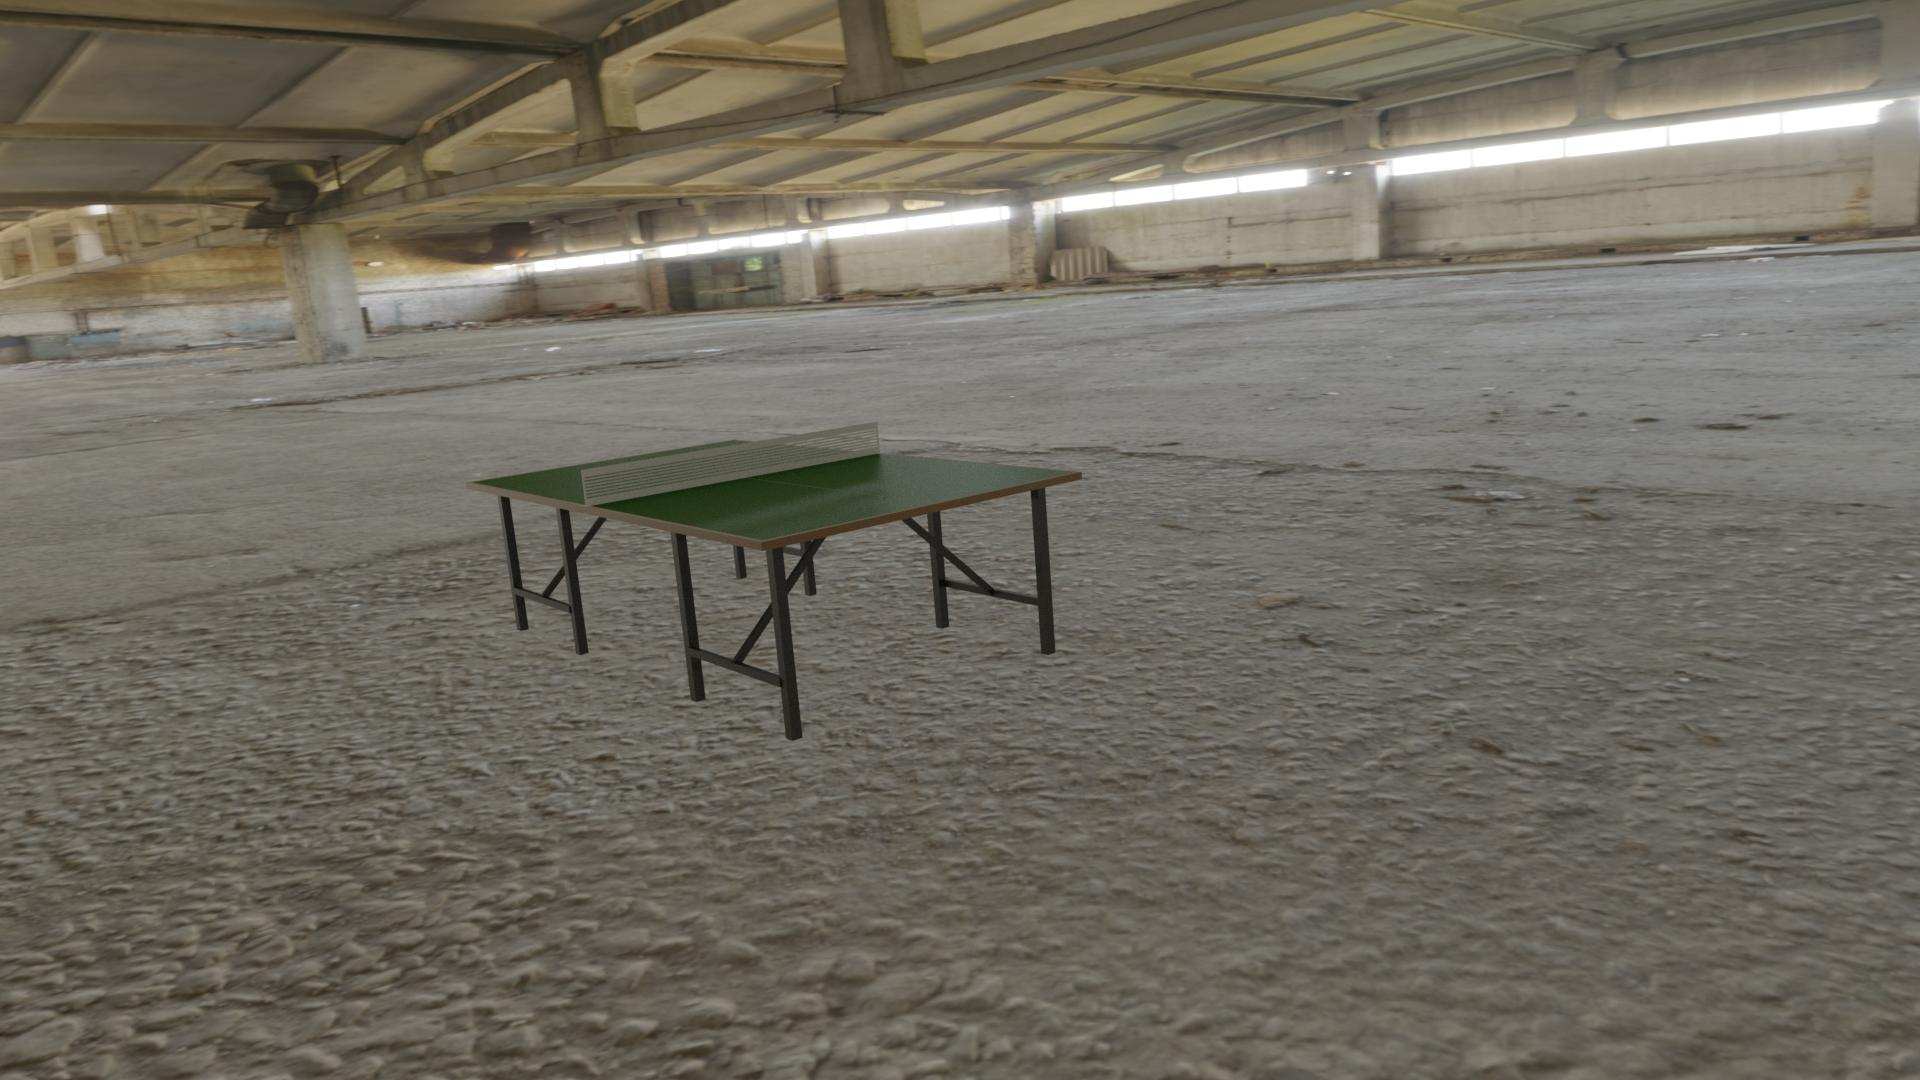table: (471, 440, 1075, 541)
